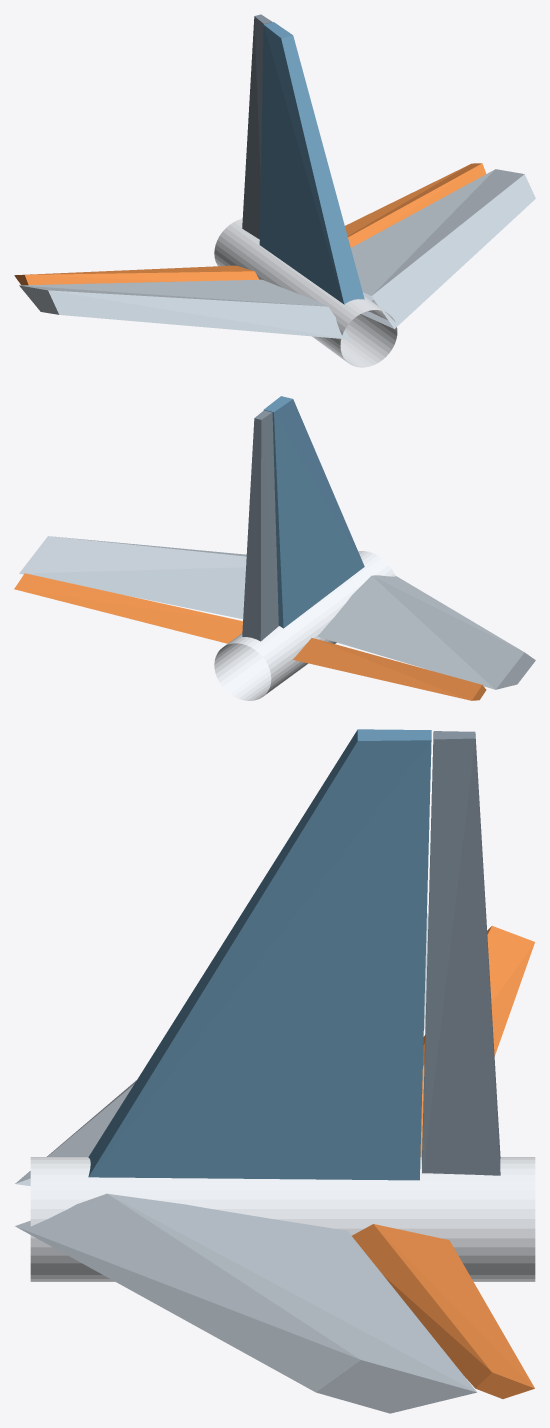
Rendered from elevator.glb.
3 views of the same model, one above another, from view 1: azimuth 30°, elevation 25°; view 2: azimuth 150°, elevation 25°; view 3: azimuth 270°, elevation 25° (orthographic). The views are drawn at different scales.
Size of the model in its own units: 5.52 by 2.99 by 2.61.
